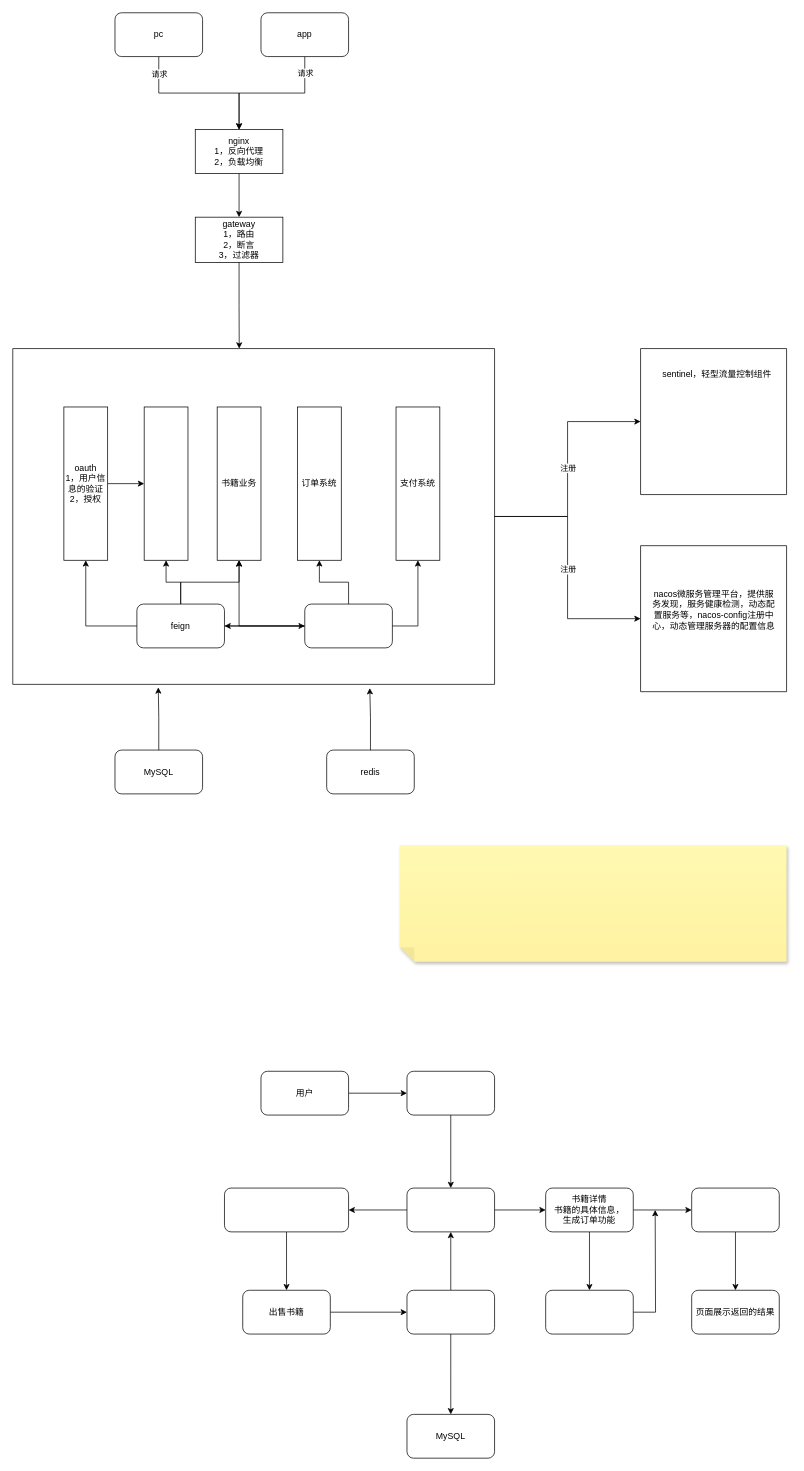
Some shapes in this 804 by 1471 pixel diagram are drawn without their labels. Each missing label, with the centre of its shape:
"Ribbon" goes at point 348,625.
"个人中心， 1，修改个人信息的功能 2，查询订单信息" goes at point 286,1209.
"二手书交易市场 项目描述：提供一个随时随地可以购买出售二手书籍的平台 消费者可以购买书籍，也可以出售自己的书籍" goes at point 593,904.
"将其出售书籍的相关信息粗存入MySQL，并且更新在首页展示" goes at point 450,1312.
"支付" goes at point 735,1209.
"用户模块" goes at point 165,483.
"登录/注册" goes at point 450,1093.
"订单" goes at point 589,1312.
"首页 出售书籍的信息和出售人相关信息的展示，分页展示" goes at point 450,1209.
